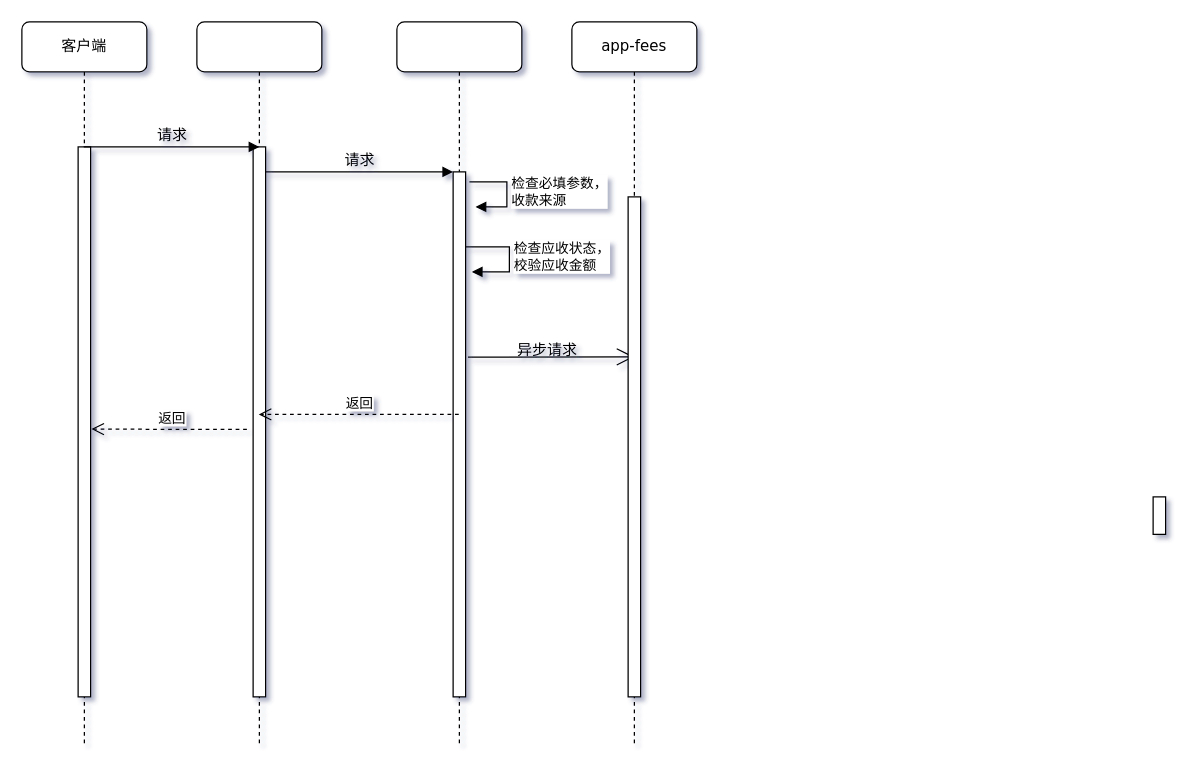
This 1195x776 diagram has some shape labels left out. Here are the shapes that lost their labels. From the top down, the box of each, then its label:
(196, 21, 322, 747): 适配接口
(396, 21, 522, 747): 标准接口
